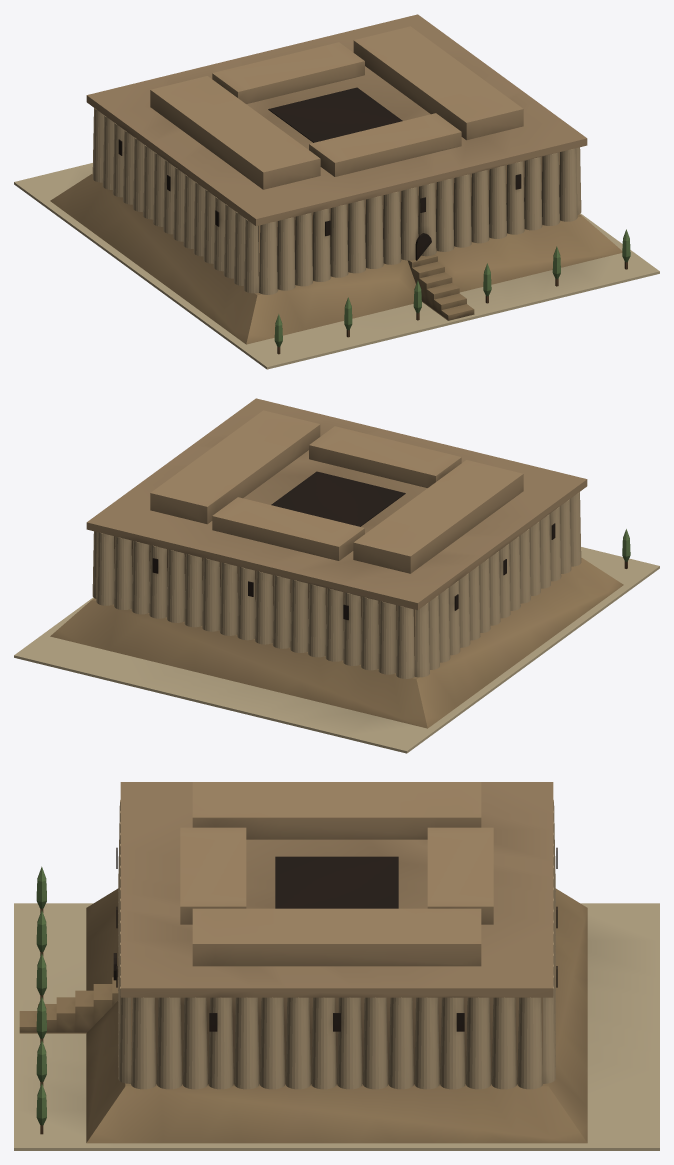
The model's file is great-kyz-kala.glb.
The picture shows the model from 3 angles, top to bottom: view 1: azimuth 30°, elevation 25°; view 2: azimuth 150°, elevation 25°; view 3: azimuth 270°, elevation 25°; orthographic projection. The views are drawn at different scales.
Visible parts, largest first — view 1: p1_corrugated walls, p0_plinth; view 2: p1_corrugated walls, p0_plinth; view 3: p1_corrugated walls, p0_plinth.
Boxes of the visible parts, x1=… form: p1_corrugated walls: x1=86, y1=14, x2=587, y2=320; p0_plinth: x1=14, y1=163, x2=659, y2=369; p1_corrugated walls: x1=86, y1=398, x2=587, y2=678; p0_plinth: x1=14, y1=529, x2=659, y2=753; p1_corrugated walls: x1=19, y1=782, x2=557, y2=1089; p0_plinth: x1=14, y1=866, x2=659, y2=1150.
Size of the model in its own units: 52 by 16.4 by 58.
